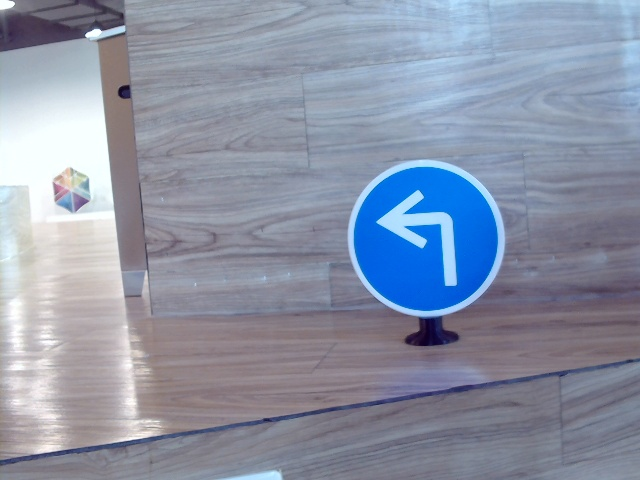turn_left: (376, 190, 464, 287)
